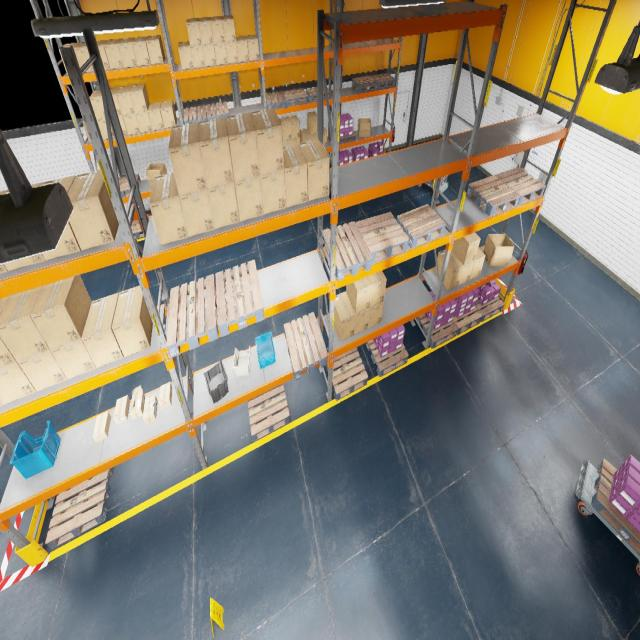box: (30, 275, 92, 349), (68, 170, 119, 250), (2, 182, 45, 271), (0, 285, 49, 361), (50, 304, 96, 379), (40, 176, 80, 260), (82, 293, 124, 368), (168, 122, 207, 196), (111, 286, 152, 356), (149, 172, 188, 245), (199, 117, 234, 188), (226, 112, 260, 181), (250, 108, 284, 175), (17, 350, 67, 391), (298, 139, 329, 201), (180, 189, 214, 237), (283, 144, 308, 207), (233, 170, 263, 222), (0, 361, 36, 404), (208, 182, 239, 228), (434, 250, 464, 290), (0, 295, 16, 367), (260, 170, 286, 214), (346, 291, 370, 335), (334, 291, 355, 341), (483, 234, 514, 266), (346, 276, 372, 314), (452, 232, 480, 264), (452, 250, 474, 285), (59, 43, 80, 74), (368, 271, 386, 307), (104, 38, 124, 68), (74, 42, 94, 72), (0, 190, 7, 273), (116, 85, 135, 115), (132, 36, 151, 66), (118, 38, 137, 68), (92, 411, 110, 442), (130, 84, 149, 112), (130, 385, 145, 420), (146, 35, 164, 64), (470, 248, 486, 280), (146, 163, 166, 187), (160, 100, 177, 128), (89, 90, 105, 119), (114, 396, 130, 424), (148, 102, 164, 130), (198, 17, 214, 45), (186, 18, 202, 46), (135, 108, 152, 133), (96, 40, 110, 70), (178, 42, 193, 70), (368, 302, 384, 328), (143, 395, 157, 424), (210, 16, 225, 43), (221, 16, 236, 42), (123, 113, 140, 135), (97, 118, 114, 140), (246, 34, 260, 60), (159, 382, 172, 409), (110, 87, 122, 116), (190, 45, 205, 68), (236, 36, 249, 62), (202, 44, 216, 66), (288, 115, 300, 139), (214, 42, 227, 64), (225, 41, 238, 63), (280, 117, 292, 140), (358, 118, 371, 137), (307, 112, 317, 134), (118, 116, 128, 136), (82, 120, 91, 142), (300, 129, 310, 142), (307, 128, 317, 140), (323, 126, 327, 146), (283, 140, 292, 146), (292, 138, 300, 144), (0, 399, 4, 406), (283, 140, 283, 146)
pallets: (45, 466, 114, 550), (591, 459, 640, 555), (166, 274, 218, 357), (215, 260, 264, 336), (284, 312, 327, 380), (323, 221, 372, 280), (356, 212, 408, 263), (248, 383, 290, 442), (326, 347, 368, 401), (466, 176, 520, 217), (396, 204, 446, 248), (495, 167, 546, 205), (366, 339, 408, 377), (416, 314, 458, 349), (453, 307, 482, 335), (476, 296, 504, 322), (131, 214, 152, 239), (119, 174, 140, 198), (283, 88, 308, 106), (207, 101, 229, 121), (184, 105, 207, 124), (352, 76, 377, 92), (266, 90, 286, 110), (306, 86, 331, 102), (370, 73, 395, 88), (427, 175, 448, 188), (339, 132, 356, 144)
